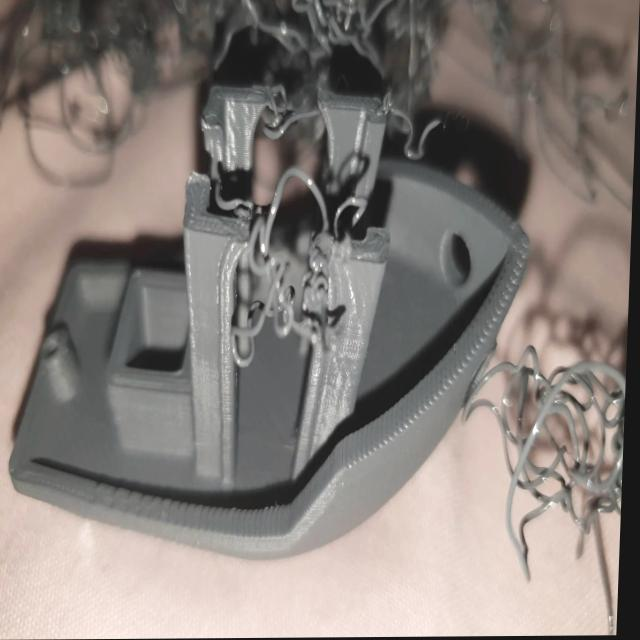spaghetti: (0, 0, 476, 120), (200, 92, 358, 401), (488, 327, 630, 596)
